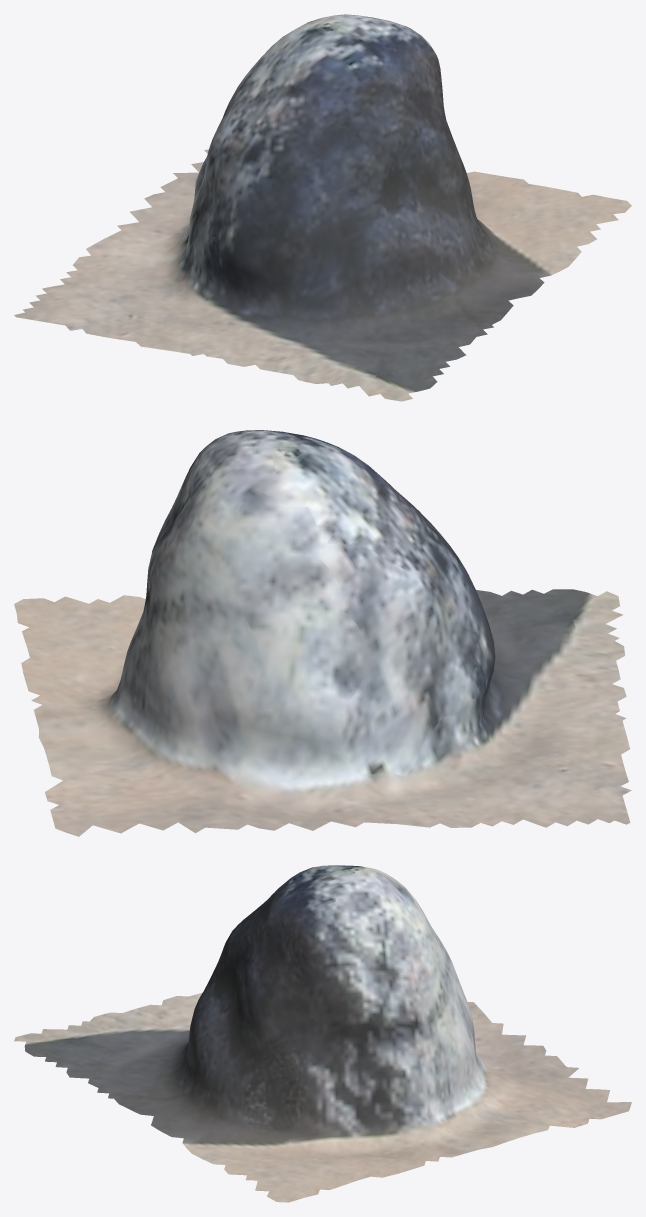
The model's file is rock_5.dae.
3 renders of one model, top to bottom at view 1: azimuth 30°, elevation 25°; view 2: azimuth 150°, elevation 25°; view 3: azimuth 270°, elevation 25°, orthographic. The views are drawn at different scales.
Visible parts, largest first — view 1: textured; view 2: textured; view 3: textured.
Boxes of the visible parts, x1,y1,x2,y2 form: textured: [14, 14, 631, 401]; textured: [14, 430, 631, 836]; textured: [14, 865, 631, 1202].
Bounding box in the file's own units: 0.4645 × 0.4563 × 0.1823.
7 materials, 7 textured.
